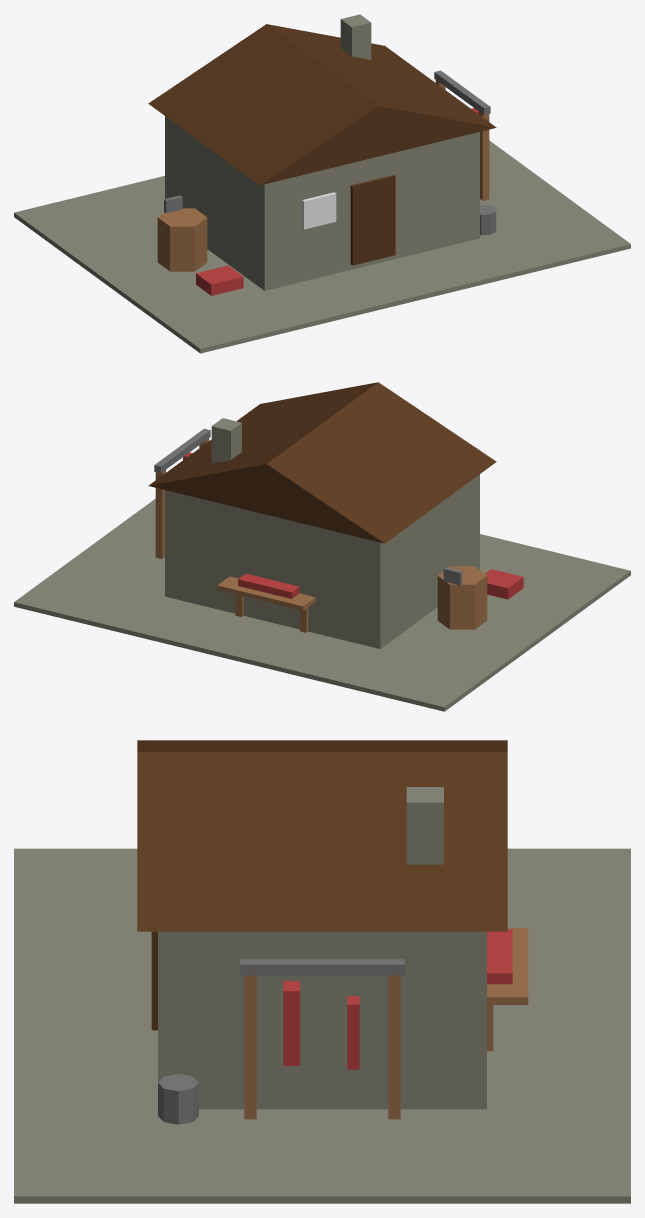
File: butchery.glb
3 views of the same model, one above another, from view 1: azimuth 30°, elevation 25°; view 2: azimuth 150°, elevation 25°; view 3: azimuth 270°, elevation 25° (orthographic). The views are drawn at different scales.
Parts seen in each view (by area): view 1: Ground, Roof, Body, Door, Block, Chimney, Window, RawMeat, HookPost1, HookBar, Bucket; view 2: Ground, Roof, Body, Block, Chimney, Table, RawMeat, ProcessedMeat, HookPost2, HookBar; view 3: Ground, Roof, Body, Chimney, HookBar, Bucket, HookPost1, HookPost2, Table, Meat1, ProcessedMeat, Meat2 (+1 smaller).
Boxes of the visible parts, <box> form: Ground: <box>14,140,630,353</box>; Roof: <box>148,24,496,185</box>; Body: <box>165,116,479,290</box>; Door: <box>350,175,395,265</box>; Block: <box>157,208,207,271</box>; Chimney: <box>340,14,371,59</box>; Window: <box>302,192,336,229</box>; RawMeat: <box>196,265,243,295</box>; HookPost1: <box>479,108,489,200</box>; HookBar: <box>434,70,490,114</box>; Bucket: <box>480,204,496,235</box>; Ground: <box>14,499,630,711</box>; Roof: <box>148,382,496,543</box>; Body: <box>165,474,479,648</box>; Block: <box>437,566,487,629</box>; Chimney: <box>211,418,241,463</box>; Table: <box>217,576,315,610</box>; RawMeat: <box>485,569,523,599</box>; ProcessedMeat: <box>238,573,299,598</box>; HookPost2: <box>155,470,165,558</box>; HookBar: <box>154,428,210,473</box>; Ground: <box>14,848,630,1203</box>; Roof: <box>137,740,507,931</box>; Body: <box>158,931,486,1109</box>; Chimney: <box>406,787,443,864</box>; HookBar: <box>240,959,404,975</box>; Bucket: <box>158,1074,198,1124</box>; HookPost1: <box>244,970,256,1119</box>; HookPost2: <box>388,971,400,1119</box>; Table: <box>487,928,528,1004</box>; Meat1: <box>283,981,299,1065</box>; ProcessedMeat: <box>487,929,512,984</box>; Meat2: <box>347,996,359,1069</box>.
Size of the model in its own units: 4 by 1.54 by 3.
